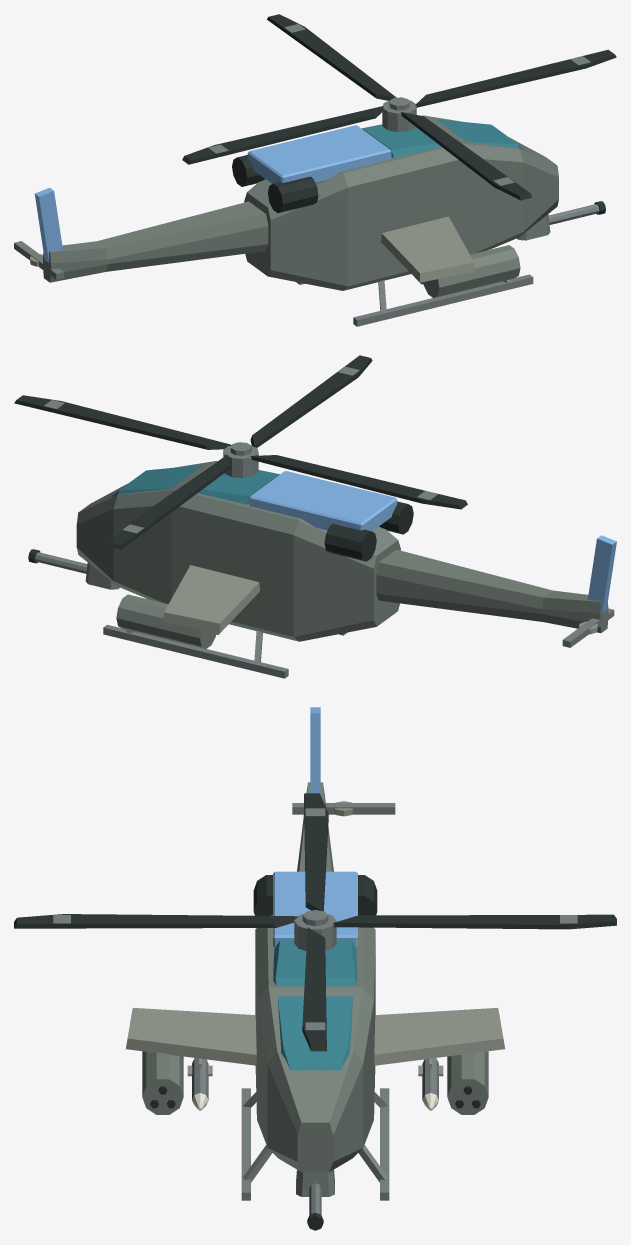
Rendered from kestrel.glb.
The picture shows the model from 3 angles, top to bottom: view 1: azimuth 30°, elevation 25°; view 2: azimuth 150°, elevation 25°; view 3: azimuth 270°, elevation 25°; orthographic projection. The views are drawn at different scales.
Visible parts, largest first — view 1: Hull, RotorMain, Turret, RotorTail; view 2: Hull, RotorMain, Turret, RotorTail; view 3: Hull, RotorMain, Turret, RotorTail.
Part boxes in pixels (box(x1,y1,x2,y2)): Hull: box(34, 115, 558, 326); RotorMain: box(182, 14, 616, 200); Turret: box(517, 201, 605, 240); RotorTail: box(14, 241, 63, 279); Hull: box(76, 461, 616, 678); RotorMain: box(14, 355, 467, 549); Turret: box(28, 549, 119, 589); RotorTail: box(562, 608, 614, 647); Hull: box(126, 707, 504, 1200); RotorMain: box(14, 793, 616, 1051); Turret: box(296, 1170, 334, 1230); RotorTail: box(292, 801, 395, 816).
Size of the model in its own units: 4.56 by 1.39 by 3.4.
